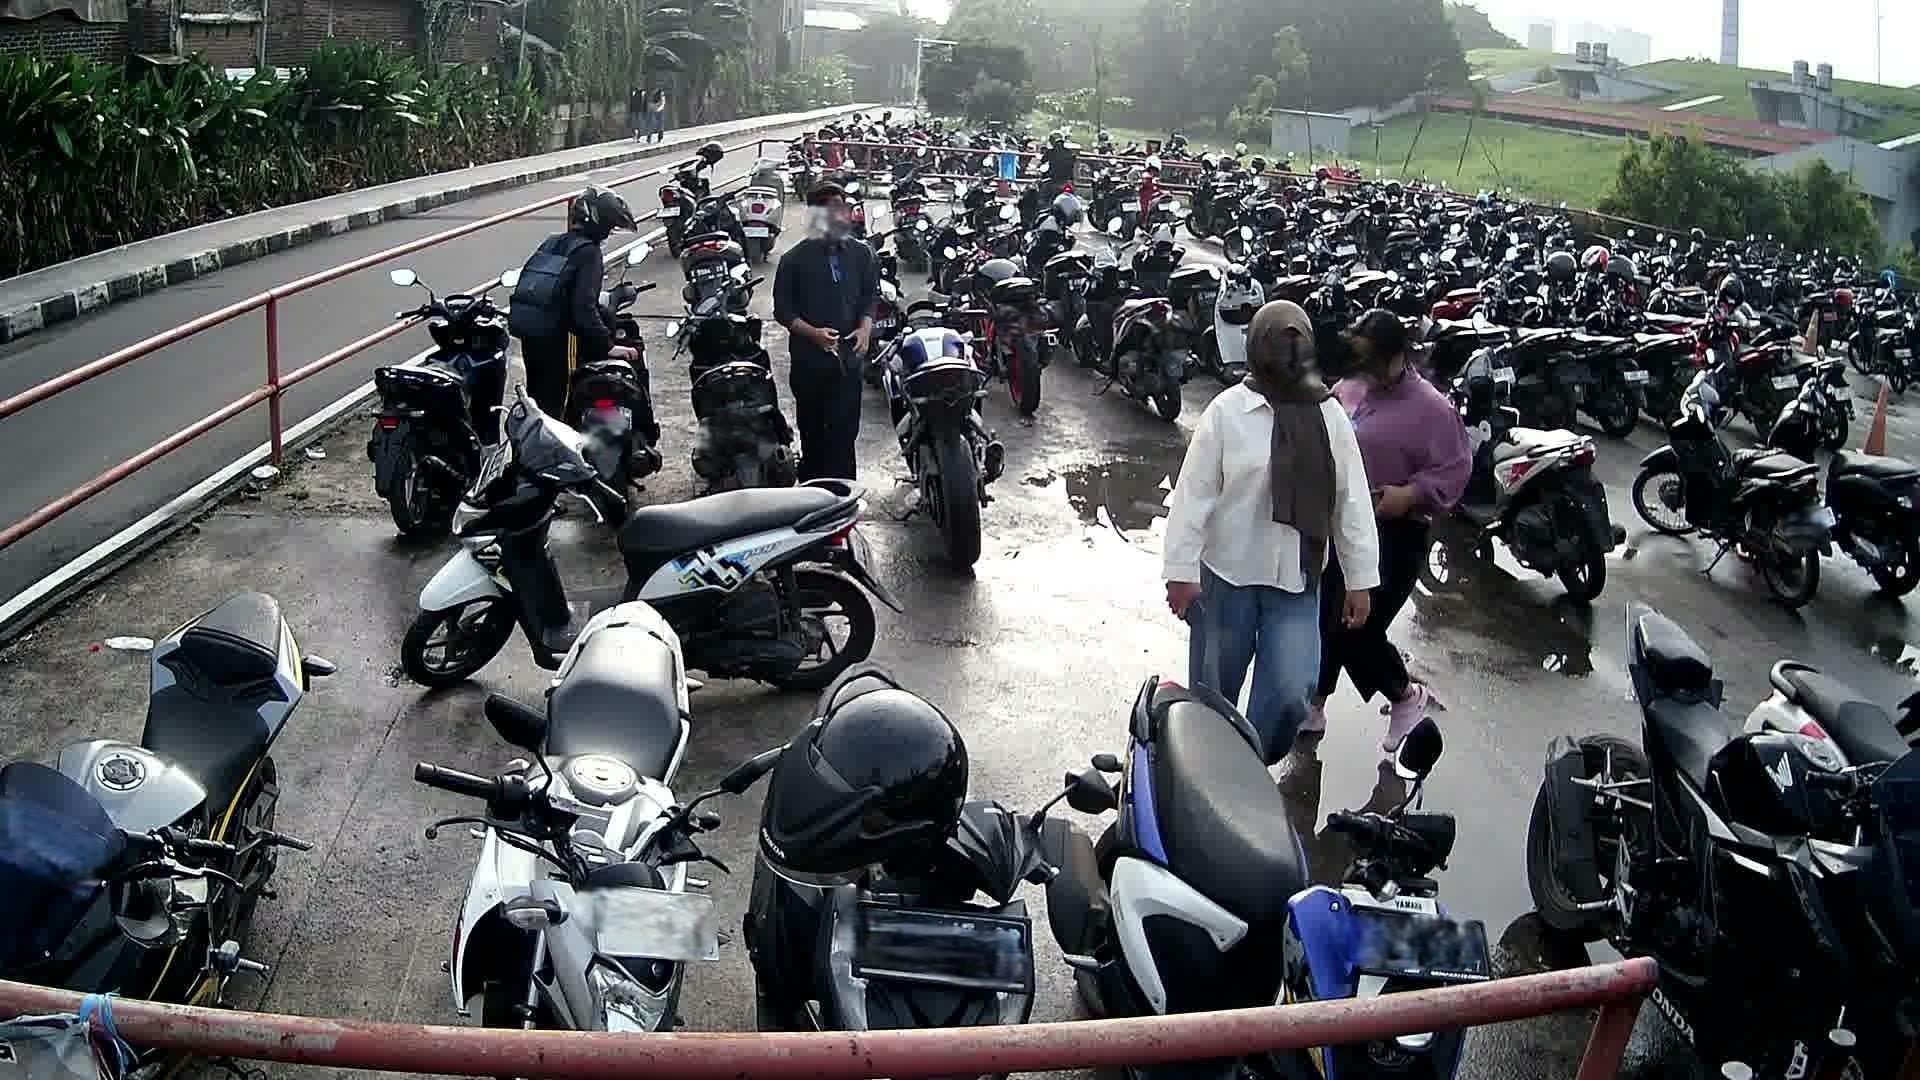motorcycle: (1044, 665, 1497, 997), (398, 392, 898, 692), (1523, 592, 1920, 956), (0, 587, 338, 997), (410, 601, 731, 1027), (733, 658, 1047, 1029), (1634, 360, 1832, 612), (1455, 335, 1623, 601), (877, 270, 1011, 576), (375, 264, 505, 539), (1775, 364, 1920, 601), (1745, 642, 1920, 799), (667, 266, 796, 479), (578, 245, 662, 488)
